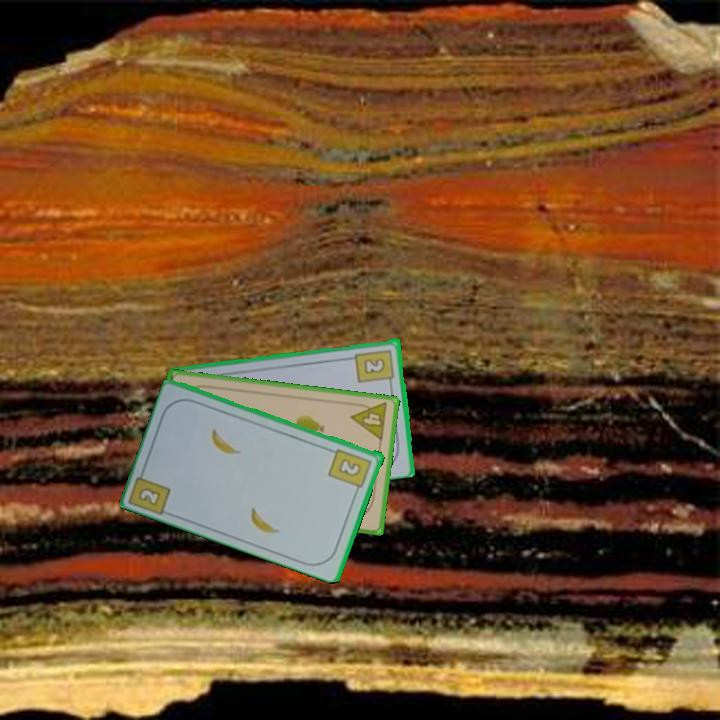2b: (325, 445, 375, 496), (128, 463, 174, 517), (352, 346, 397, 388)
4p: (348, 399, 391, 444)
